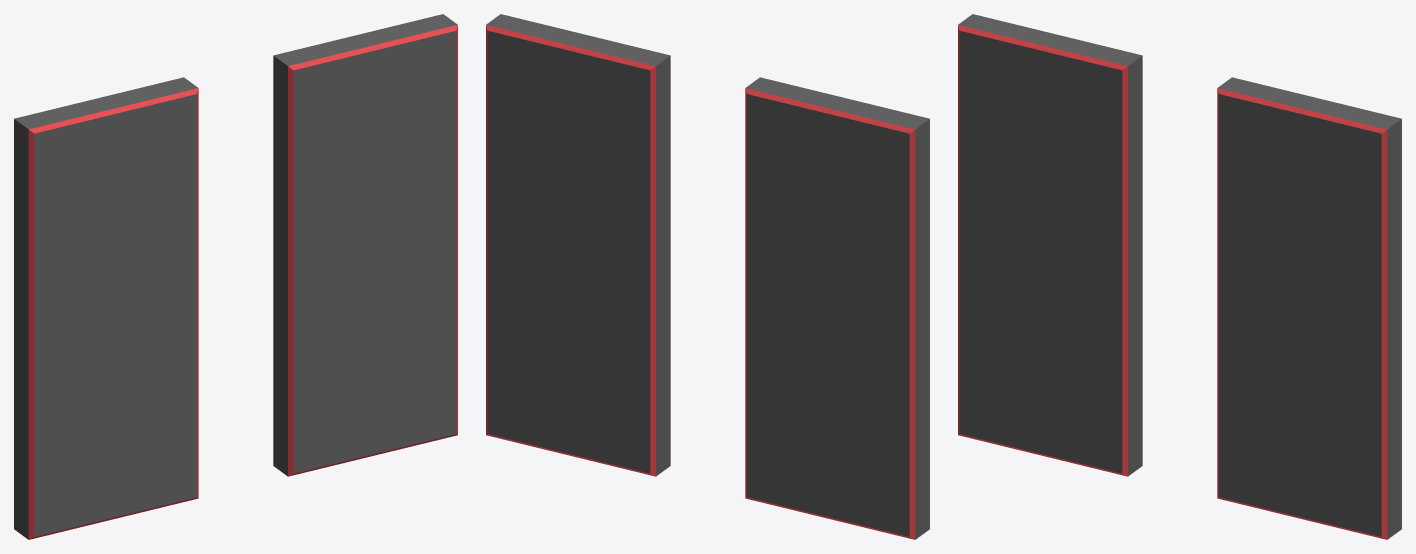
The model's file is TwoWallSolid.fbx.
3 views of the same model, side by side, from view 1: azimuth 30°, elevation 25°; view 2: azimuth 150°, elevation 25°; view 3: azimuth 330°, elevation 25° (orthographic).
Parts seen in each view (by area): view 1: Cube.001; view 2: Cube.001; view 3: Cube.001.
Boxes of the visible parts, x1=… form: Cube.001: x1=14, y1=14, x2=457, y2=539; Cube.001: x1=486, y1=14, x2=929, y2=539; Cube.001: x1=958, y1=14, x2=1401, y2=539.
Size of the model in its own units: 49.37 by 45.12 by 3.72.
